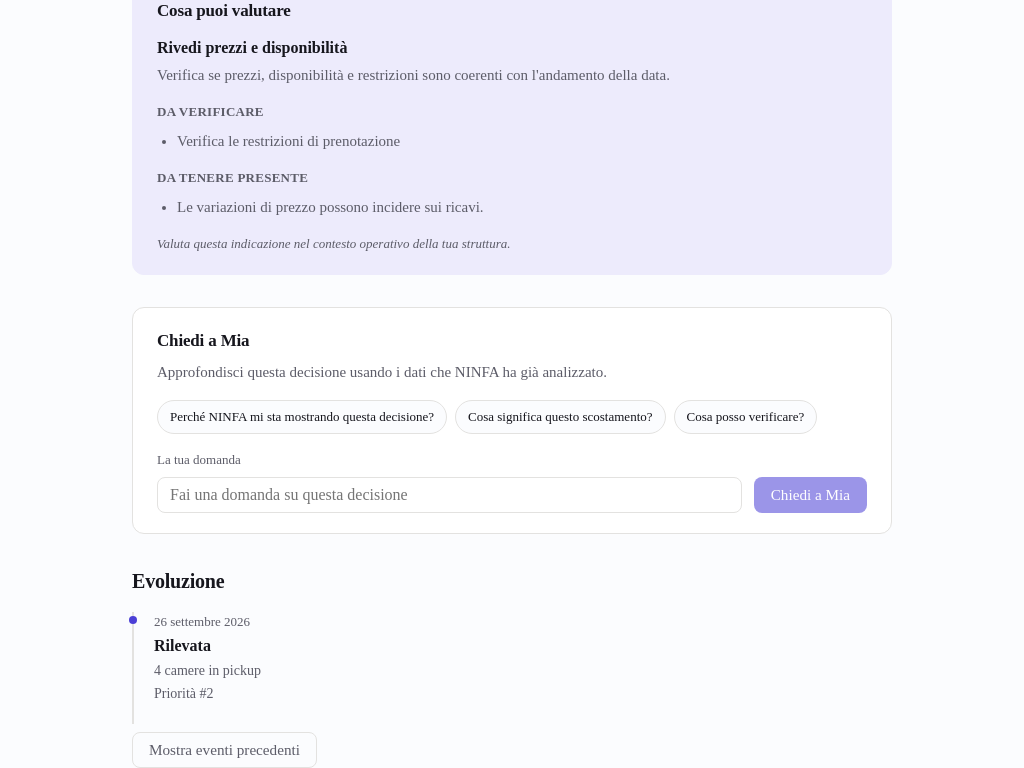
Test: DecisionDetailView - history pagination › disables the load-more button and shows a generic retry on a load-more failure, keeping loaded items
(page scrolled)
Click the button "Mostra eventi precedenti" at (224, 750), box [132, 732, 317, 767]
(page scrolled)
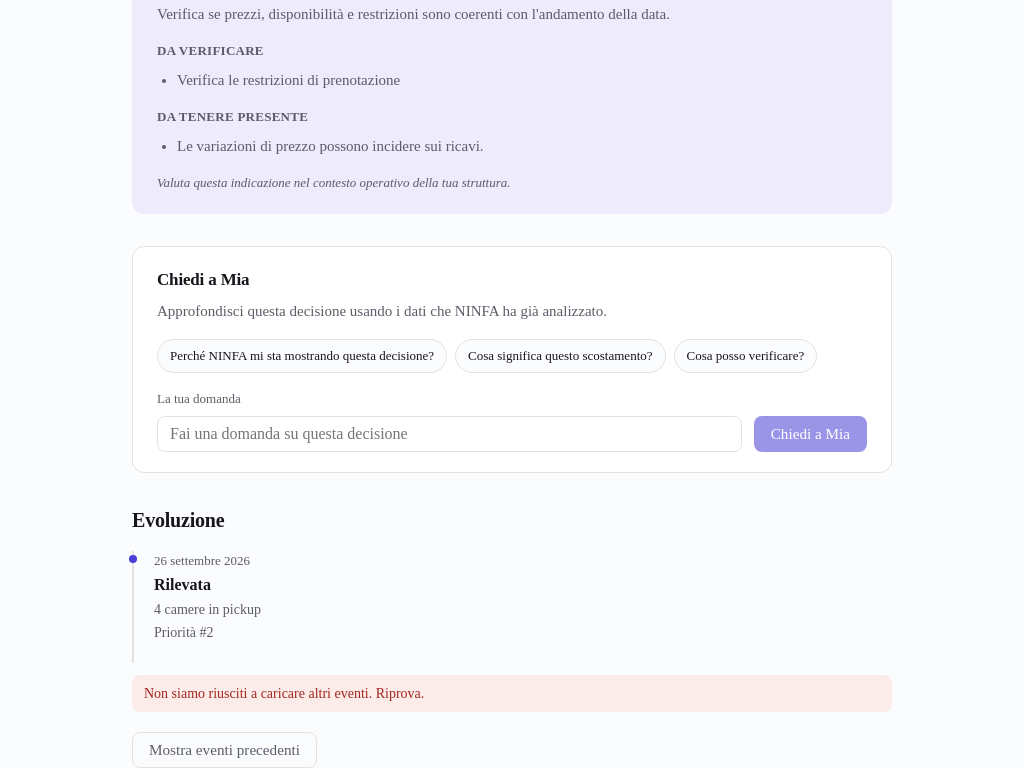
expect the text with class "decision-timeline__event" reads "Rilevata": met, box [154, 576, 211, 593]
expect the message "Non siamo riusciti a caricare altri eventi. Riprova." is shown: met, box [132, 675, 892, 712]
